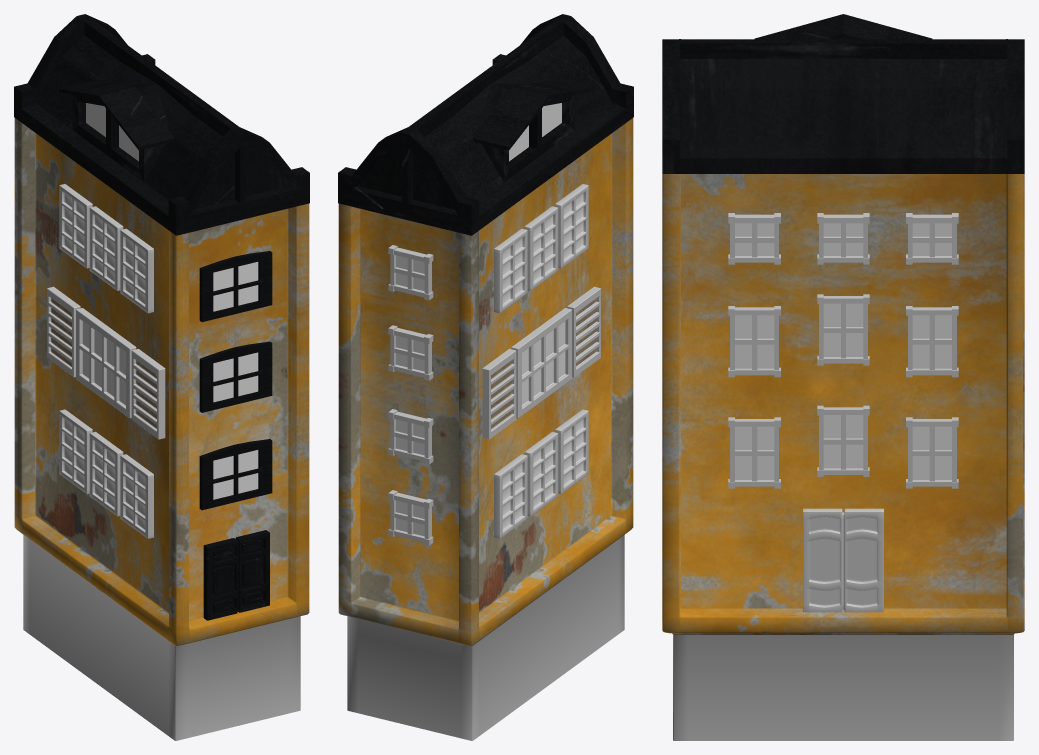
Rendered from House5_lowpoly.fbx.
The picture shows the model from 3 angles, left to right: view 1: azimuth 30°, elevation 25°; view 2: azimuth 150°, elevation 25°; view 3: azimuth 270°, elevation 25°; orthographic projection. The views are drawn at different scales.
Parts seen in each view (by area): view 1: BaseHouse2.005, Roof.004, DoorHouse2.012, WindowBlinds.010, BroadWindow.012, WindowNewResized.031, WindowNewResized.030, WindowNewResized.029, TallWindow.087, TallWindow.090, TallWindow.085, TallWindow.088 (+2 smaller); view 2: BaseHouse2.005, Roof.004, WindowBlinds.010, BroadWindow.012, TallWindow.086, TallWindow.089, TallWindow.085, TallWindow.088, TallWindow.087, TallWindow.090, WindowLShortSide.083, WindowLShortSide.084 (+2 smaller); view 3: BaseHouse2.005, Roof.004, DoorHouse2.013, WindowRBroadSide.038, WindowRBroadSide.039, WindowRBroadSide.034, WindowRBroadSide.035, WindowRBroadSide.036, WindowRBroadSide.037, WindowLShortSide.087, WindowLShortSide.088, WindowLShortSide.089.
Boxes of the visible parts, x1,y1,x2,y2 form: BaseHouse2.005: (14,118,309,740); Roof.004: (14,14,309,235); DoorHouse2.012: (203,530,269,620); WindowBlinds.010: (47,286,165,439); BroadWindow.012: (76,308,136,418); WindowNewResized.031: (199,251,272,321); WindowNewResized.030: (199,341,272,412); WindowNewResized.029: (199,439,272,510); TallWindow.087: (120,228,153,313); TallWindow.090: (120,454,153,538); TallWindow.085: (89,206,123,290); TallWindow.088: (89,431,123,516); BaseHouse2.005: (338,118,633,740); Roof.004: (338,14,633,235); WindowBlinds.010: (482,286,600,439); BroadWindow.012: (511,308,571,418); TallWindow.086: (494,228,527,313); TallWindow.089: (494,454,527,538); TallWindow.085: (524,206,558,290); TallWindow.088: (524,431,558,516); TallWindow.087: (555,184,588,268); TallWindow.090: (555,409,588,494); WindowLShortSide.083: (388,245,433,300); WindowLShortSide.084: (388,325,433,380); BaseHouse2.005: (662,174,1024,740); Roof.004: (662,14,1024,173); DoorHouse2.013: (803,508,883,612); WindowRBroadSide.038: (728,306,780,377); WindowRBroadSide.039: (906,306,958,377); WindowRBroadSide.034: (817,405,869,476); WindowRBroadSide.035: (728,417,780,488); WindowRBroadSide.036: (906,417,958,488); WindowRBroadSide.037: (817,294,869,365); WindowLShortSide.087: (728,213,780,264); WindowLShortSide.088: (906,213,958,264); WindowLShortSide.089: (817,213,869,264).
Bounding box in the file's own units: 999 × 4258 × 2100.
